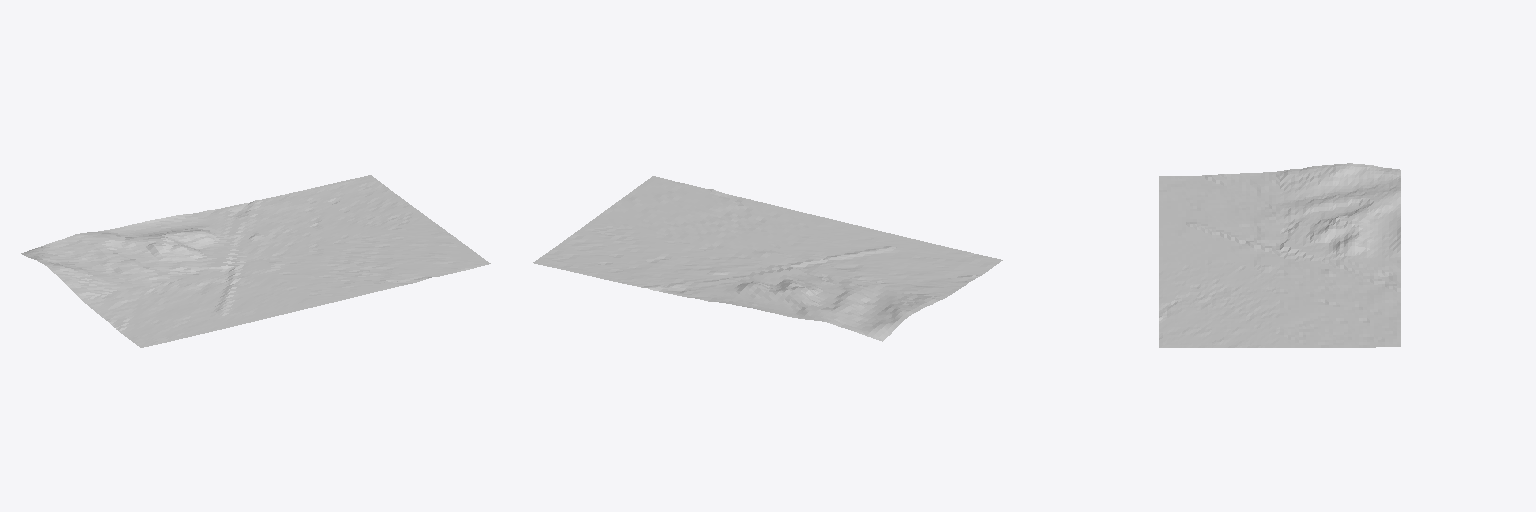
File: badalonaScale2.obj
3 views of the same model, side by side, from view 1: azimuth 30°, elevation 25°; view 2: azimuth 150°, elevation 25°; view 3: azimuth 270°, elevation 25° (orthographic).
Parts seen in each view (by area): view 1: badalona_MetElipResi; view 2: badalona_MetElipResi; view 3: badalona_MetElipResi.
Part boxes in pixels (x1,y1,x2,y2): badalona_MetElipResi: (21,175,490,347); badalona_MetElipResi: (533,176,1002,341); badalona_MetElipResi: (1159,163,1400,347).
Size of the model in its own units: 90.53 by 3.55 by 53.95.